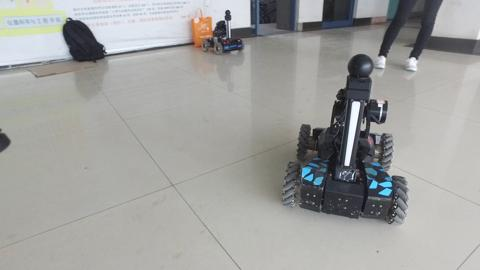bag: (61, 16, 107, 63), (190, 7, 215, 47)
chariot: (280, 53, 409, 227), (200, 8, 246, 56)
